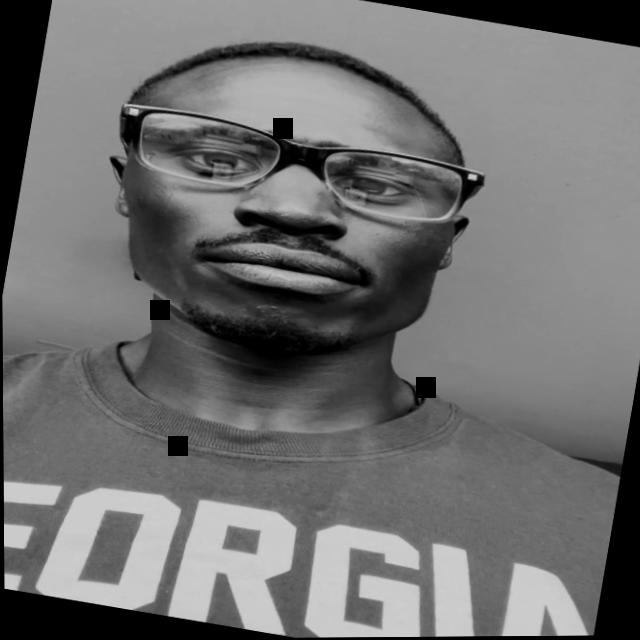NO-Mask: (71, 14, 507, 415)
